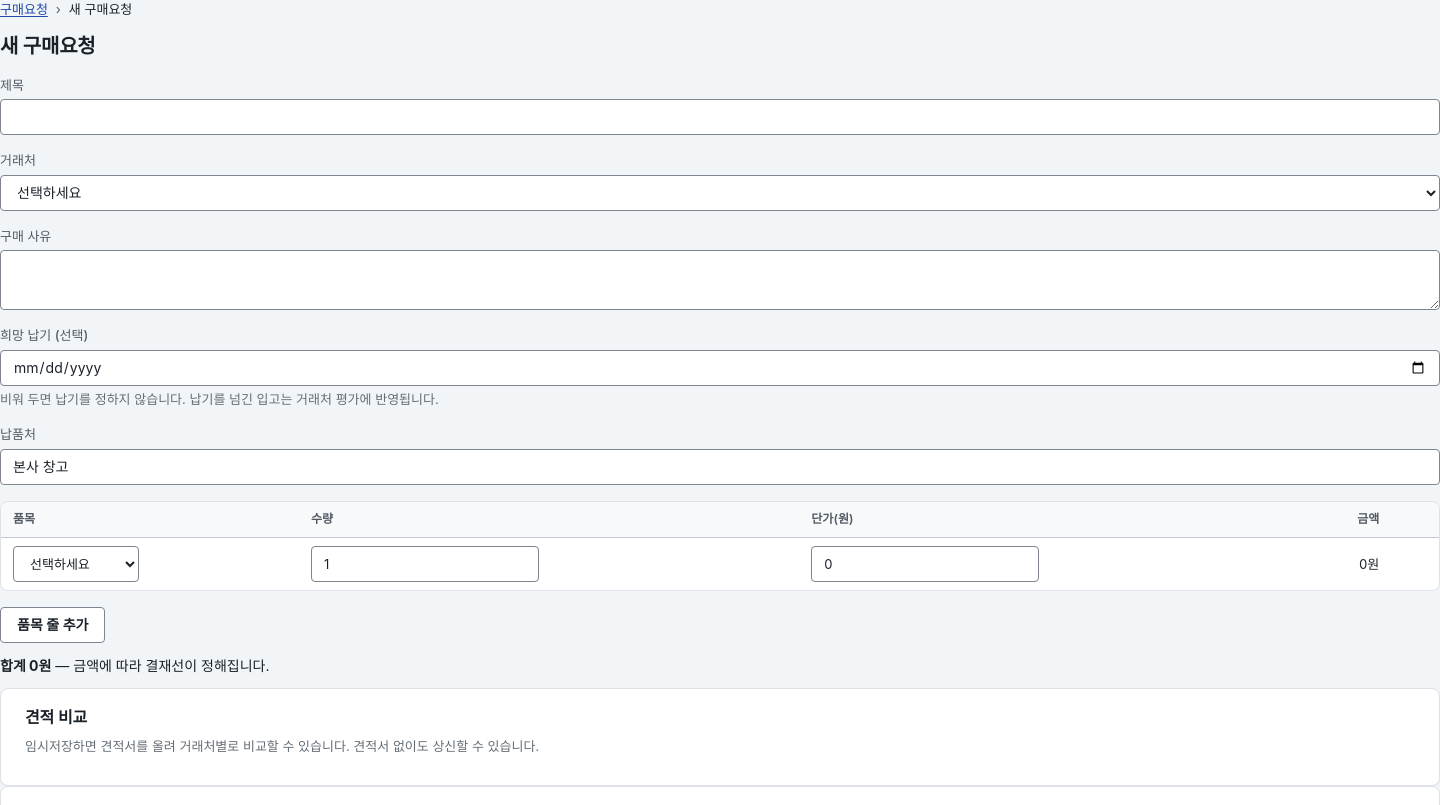
구매요청 작성 화면의 관련 규정 › 조회가 실패하면 한국어 안내를 보이고 저장 버튼은 그대로 쓸 수 있다
Select "복사용지 (P-1)" in the dropdown named "1번째 줄 품목" at coordinates (76, 564), box [13, 546, 139, 582]
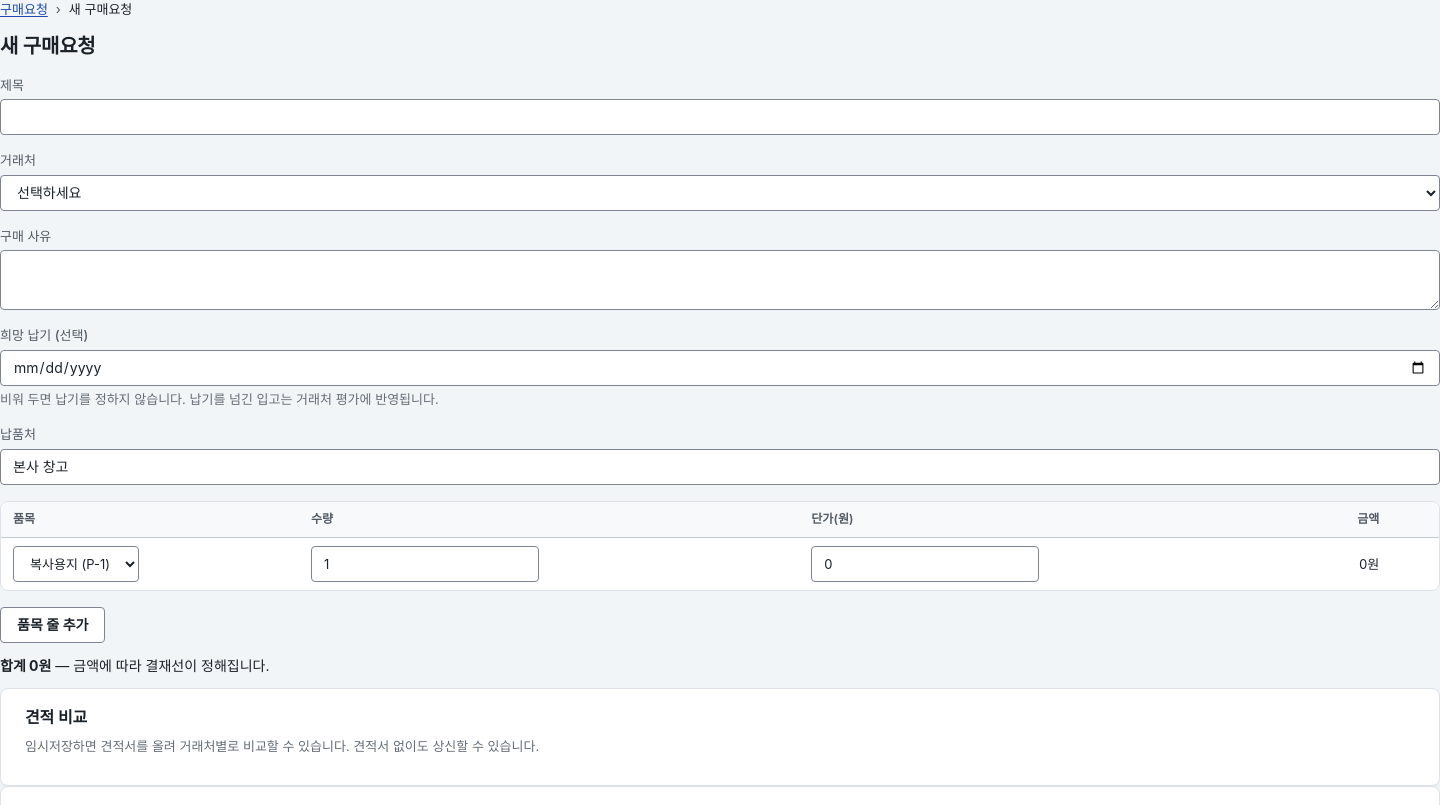
Replace the text in the field named "1번째 줄 단가" with "500000" at coordinates (925, 564), box [811, 546, 1039, 582]
(page scrolled)
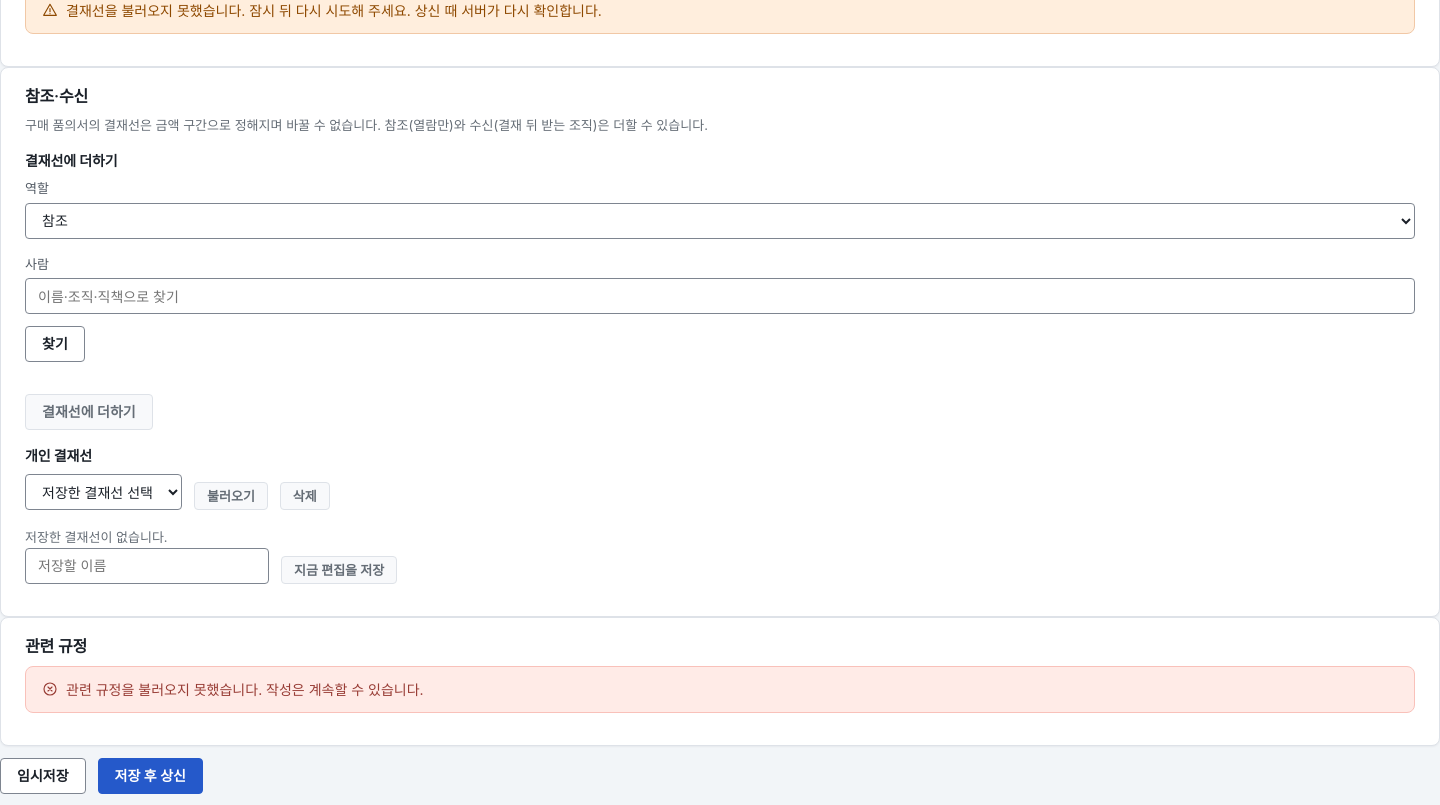
expect the button "임시저장" is enabled: met, box [0, 758, 86, 794]
expect the text "관련 규정을 불러오지 못했습니다. 작성은 계속할 수 있습니다." is shown: met, box [66, 678, 424, 700]
